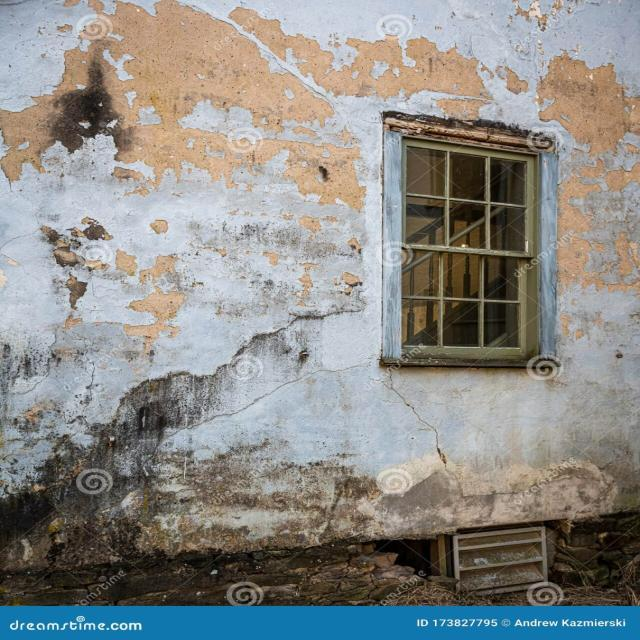peeling: (5, 7, 633, 470)
